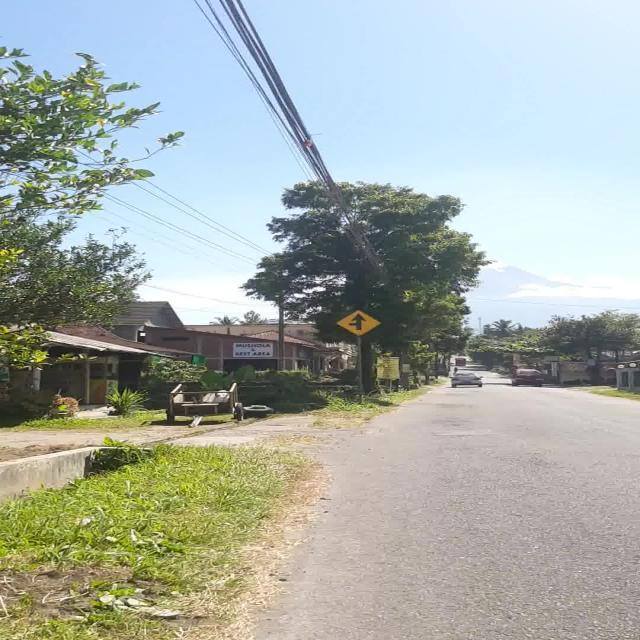Persimpangan 3 Prioritas Kiri: (336, 309, 379, 336)
